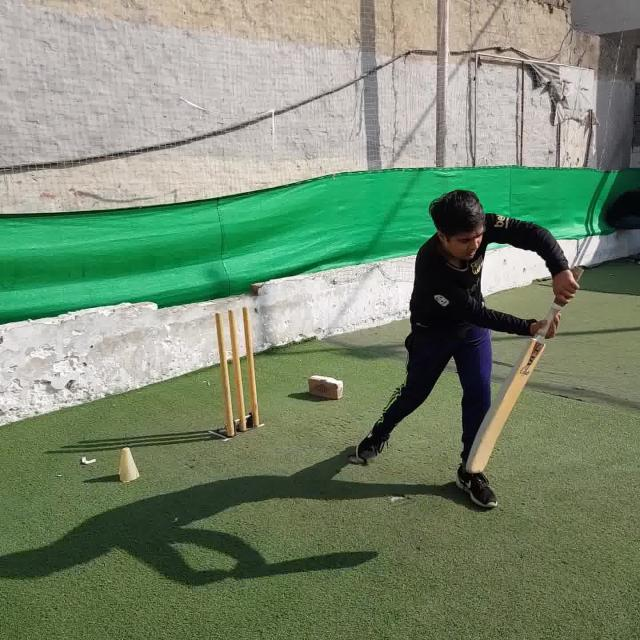bat: (467, 266, 582, 473)
